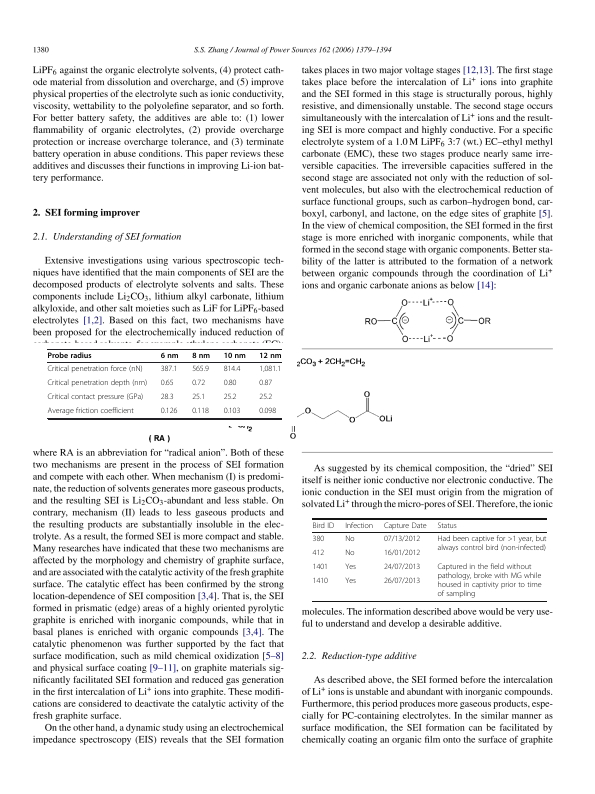borderless: (312, 517, 547, 601), (46, 348, 281, 418)
cell: (436, 562, 542, 599), (436, 534, 547, 553), (47, 379, 148, 388), (47, 393, 144, 402), (47, 365, 143, 374), (47, 407, 135, 416), (383, 521, 427, 530), (383, 534, 421, 544), (383, 548, 421, 558), (383, 562, 421, 572), (383, 576, 421, 586), (47, 352, 93, 360), (344, 521, 374, 530), (258, 365, 282, 374), (312, 521, 335, 530), (436, 521, 458, 530), (223, 352, 247, 360), (258, 352, 282, 360), (191, 365, 210, 374), (191, 407, 210, 416), (258, 407, 277, 416), (312, 562, 329, 572), (312, 576, 329, 586), (160, 365, 178, 374), (223, 365, 241, 374), (160, 407, 178, 416), (223, 407, 241, 416), (191, 352, 211, 360), (160, 352, 179, 360), (191, 379, 206, 388), (258, 379, 273, 388), (191, 393, 206, 402), (258, 393, 273, 402), (312, 534, 325, 544), (312, 548, 325, 558), (344, 562, 357, 572), (344, 576, 357, 586), (160, 379, 174, 388), (223, 379, 237, 388), (160, 393, 174, 402), (223, 393, 237, 402), (344, 534, 355, 544), (344, 548, 355, 558)
